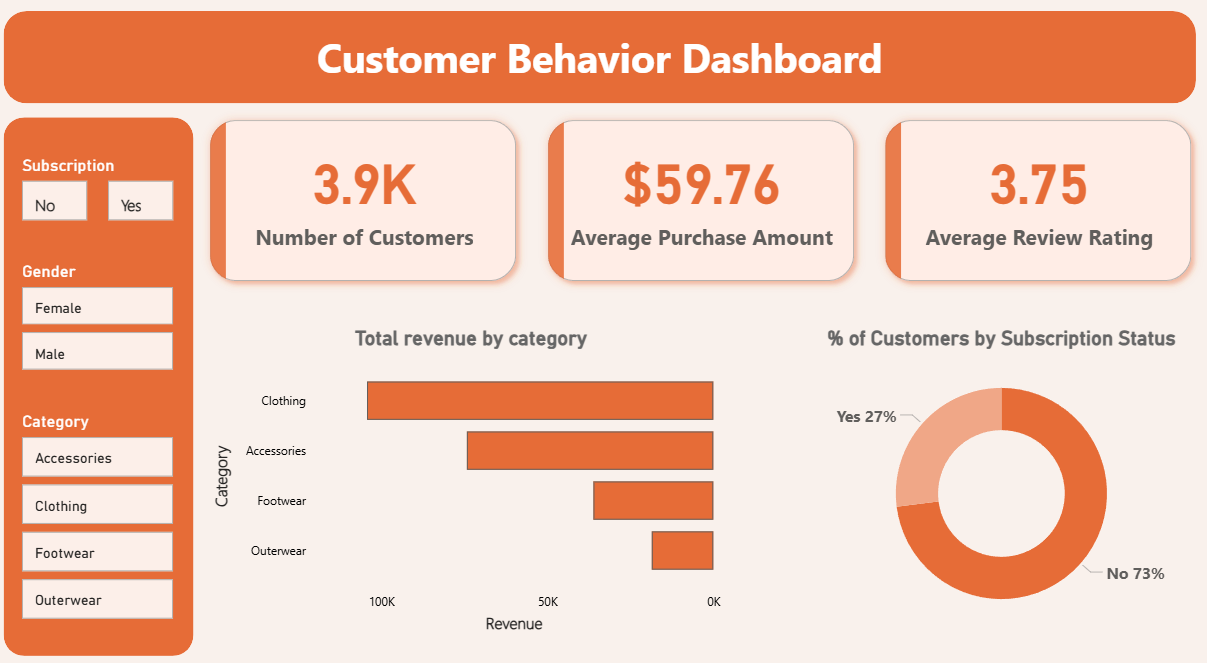

Layout of this report page (visuals, bound fields, positions):
{"tool":"powerbi","page":{"name":"Page 1","canvas":[1280,720],"ordinal":0},"visuals":[{"type":"shape","box":[19,24.1,1230.9,682.6],"z":0},{"type":"cardVisual","fields":{"Data":["customer-table.Number of Customers","customer-table.Average Purchase Amount","customer-table.Average Review Rating"]},"box":[220.1,134.5,1029.5,197.5],"z":1000},{"type":"donutChart","title":"% of Customers by Subscription Status","fields":{"Category":["customer-table.subscription_status"],"Y":["customer-table.Number of Customers"]},"box":[797.8,359.6,482.5,316.6],"z":2000},{"type":"clusteredBarChart","title":"Total revenue by category","fields":{"Category":["customer-table.category"],"Y":["Sum(customer-table.purchase_amount)"]},"box":[236.8,359.6,529.3,316.6],"z":3000},{"type":"shape","box":[27.9,40.5,1208.1,93.7],"z":4000},{"type":"shape","box":[27.9,148.2,192.5,545.8],"z":5000},{"type":"advancedSlicerVisual","title":"Subscription","fields":{"Values":["customer-table.subscription_status"]},"box":[41.8,186.2,163.4,72.2],"z":6000},{"type":"advancedSlicerVisual","title":"Gender","fields":{"Values":["customer-table.gender"]},"box":[41.8,293.8,163.4,115.2],"z":7000},{"type":"advancedSlicerVisual","title":"Category","fields":{"Values":["customer-table.category"]},"box":[41.8,445.7,163.4,216.5],"z":8000}]}

Visuals, with their boxes in screenshot pixels (x1, y1, x2, y2), scaled from the page's 1280x720 canvas onto the 1207x663 screenshot:
shape: x1=18 y1=22 x2=1179 y2=651
cardVisual - customer-table.Number of Customers x customer-table.Average Purchase Amount: x1=208 y1=124 x2=1178 y2=306
"% of Customers by Subscription Status" donutChart: x1=752 y1=331 x2=1206 y2=623
"Total revenue by category" clusteredBarChart: x1=223 y1=331 x2=722 y2=623
shape: x1=26 y1=37 x2=1166 y2=124
shape: x1=26 y1=136 x2=208 y2=639
"Subscription" advancedSlicerVisual: x1=39 y1=171 x2=193 y2=238
"Gender" advancedSlicerVisual: x1=39 y1=271 x2=193 y2=377
"Category" advancedSlicerVisual: x1=39 y1=410 x2=193 y2=610
